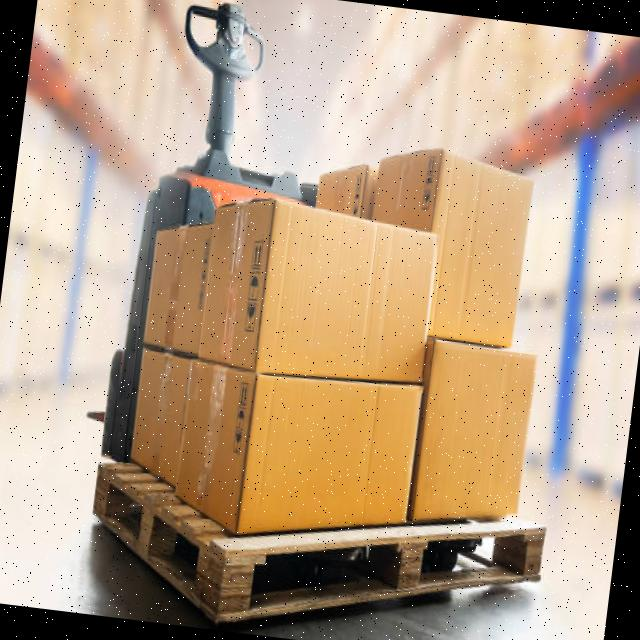Wooden-Pallets: (84, 454, 551, 624)
